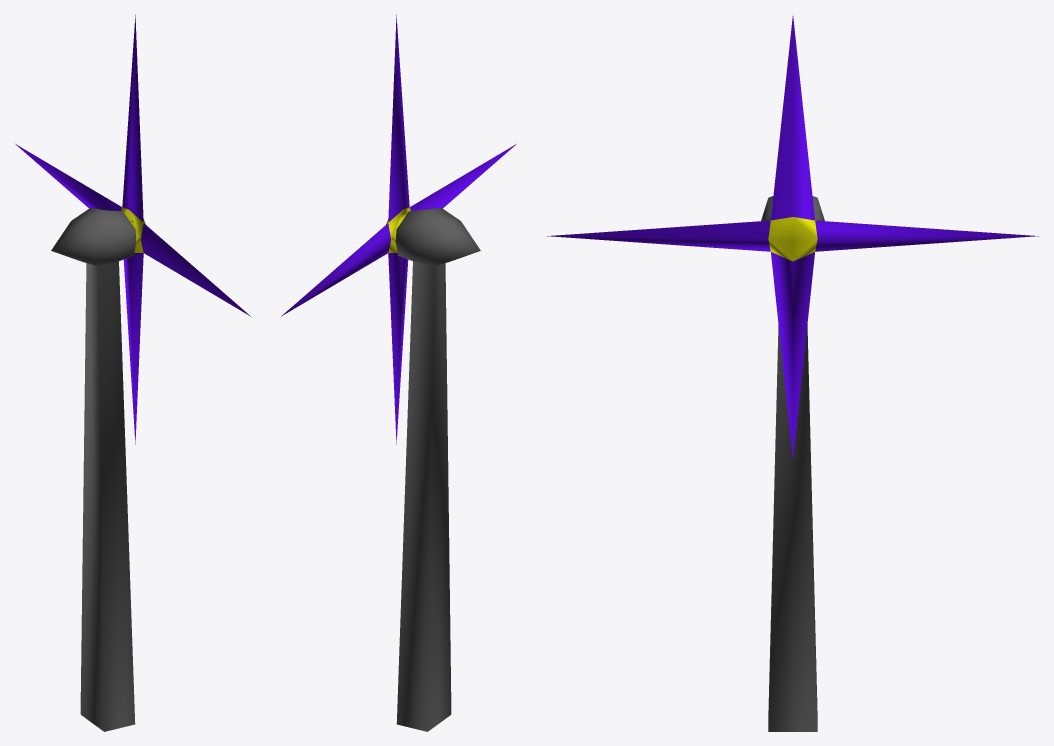
File: windmill.glb
The picture shows the model from 3 angles, left to right: view 1: azimuth 30°, elevation 25°; view 2: azimuth 150°, elevation 25°; view 3: azimuth 270°, elevation 25°; orthographic projection. The views are drawn at different scales.
Parts seen in each view (by area): view 1: base, fan; view 2: base, fan; view 3: fan, base.
Boxes of the visible parts, x1,y1,x2,y2 form: base: (51,207,135,731); fan: (15,14,250,444); base: (396,207,480,731); fan: (281,14,516,444); fan: (547,16,1038,458); base: (761,196,824,731).
Size of the model in its own units: 4.62 by 32.41 by 20.
